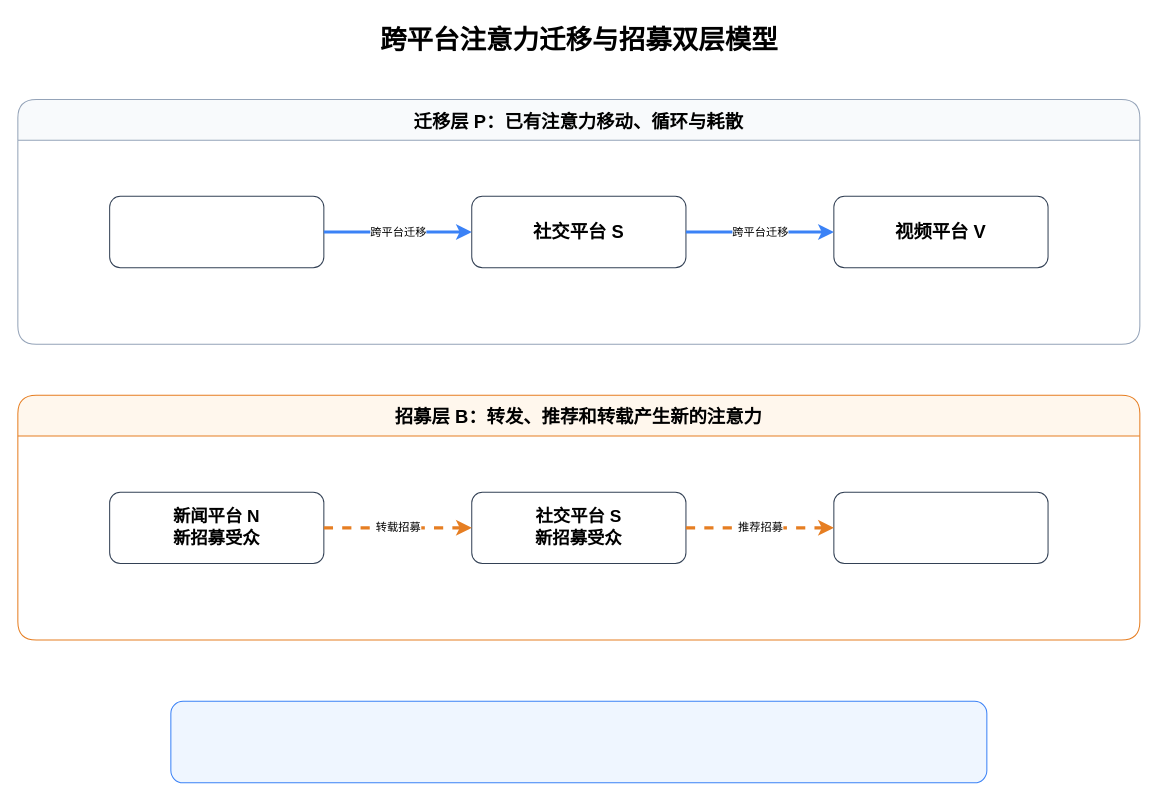
Image size: 1158x801. Some labels were removed from this diagram. The centre of each missing label's shape, as x and y in pixels:
"a(t+1) = Pᵀa(t) + Bᵀa(t) + s(t) K = P + B；传播早期临界倾向由 ρ(K) 判断" goes at [578,741].
"新闻平台 N" goes at [216,231].
"视频平台 V 新招募受众" goes at [940,527].
